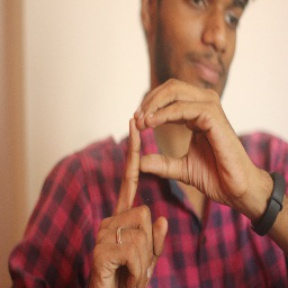P: (88, 80, 253, 265)
